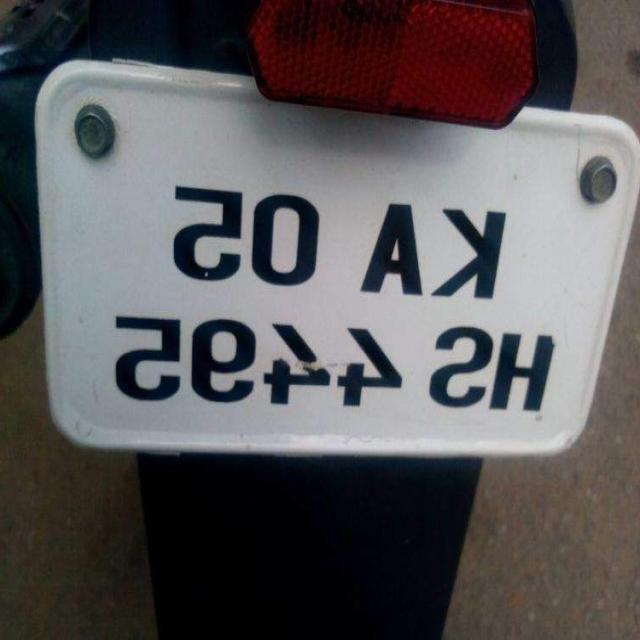number-plate: (39, 138, 624, 478)
